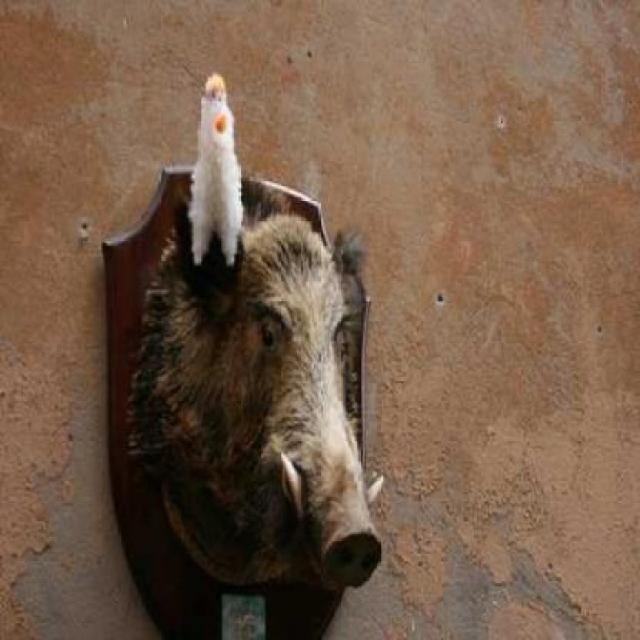pig: (77, 77, 418, 600)
